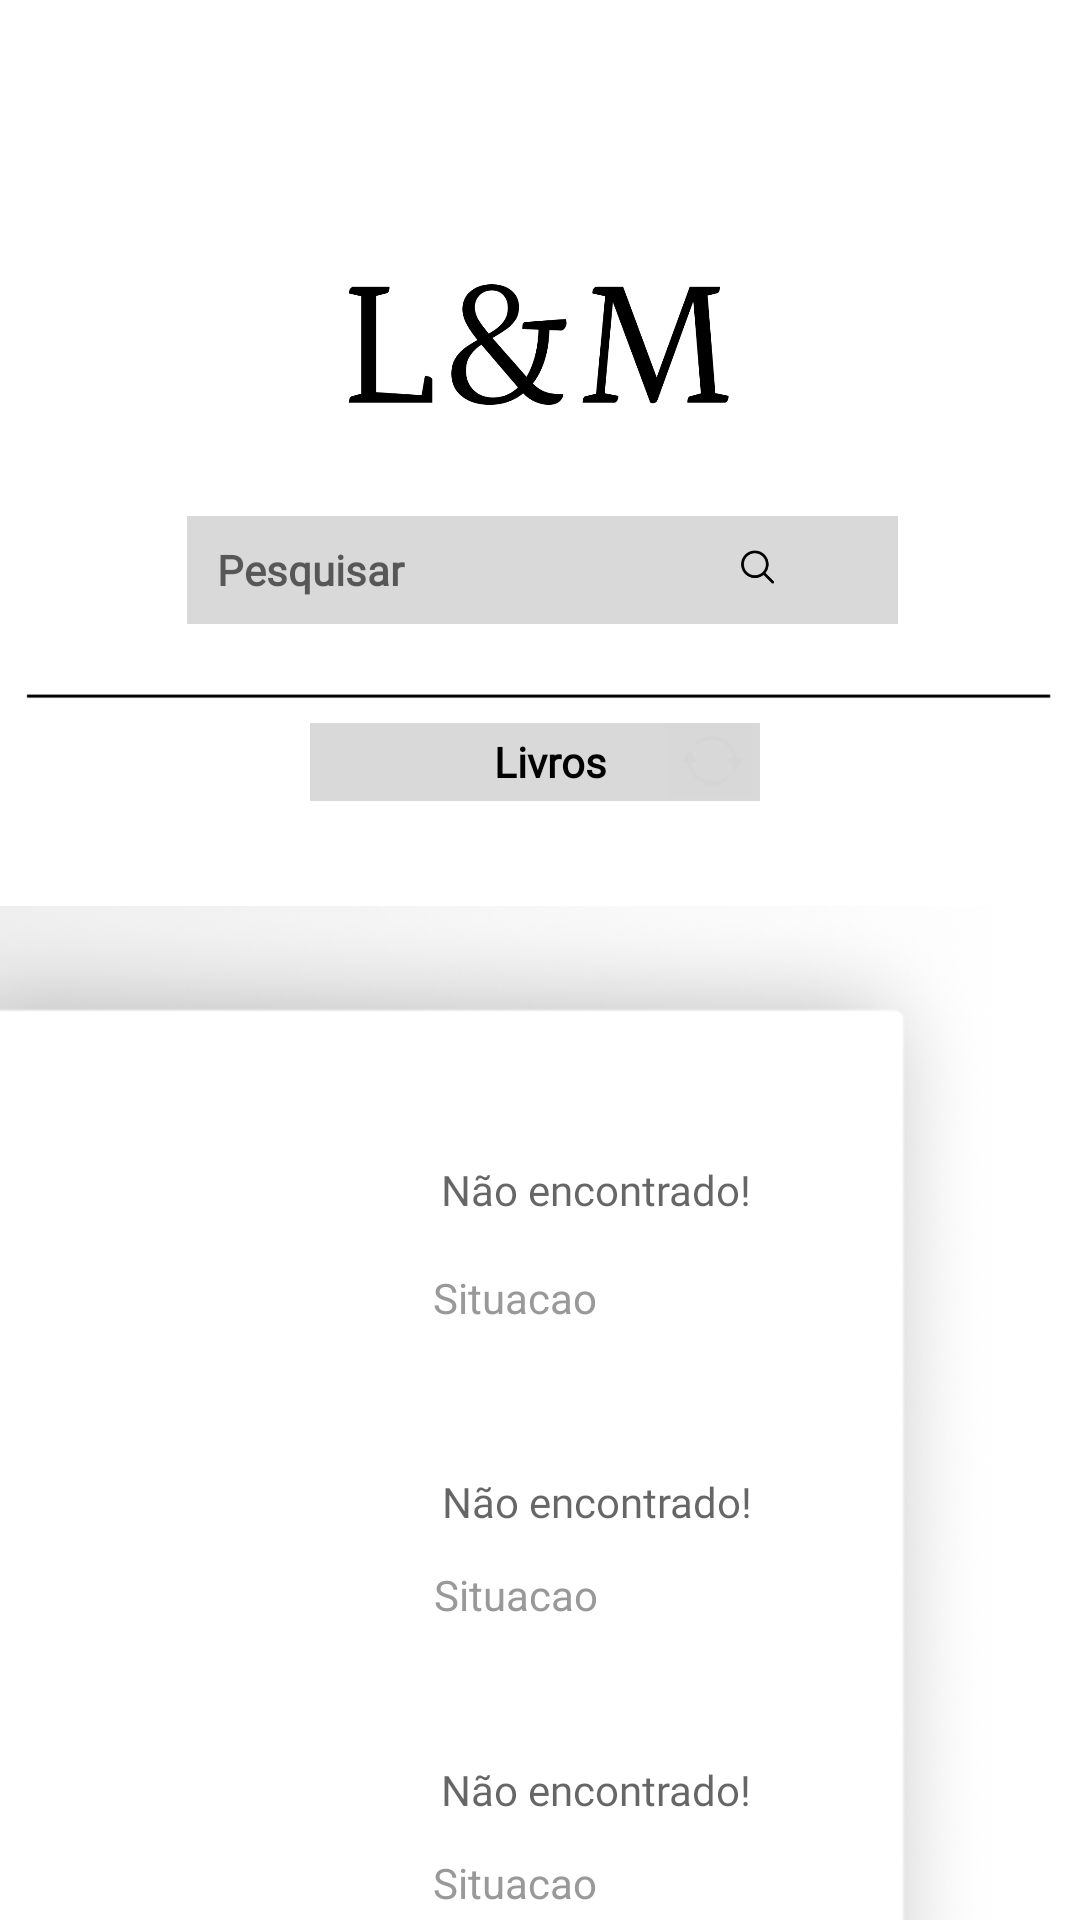

Icon click points for this 1080px x 1920px phone screenshot, format [x,y]:
de pesquisa: [757,567]
